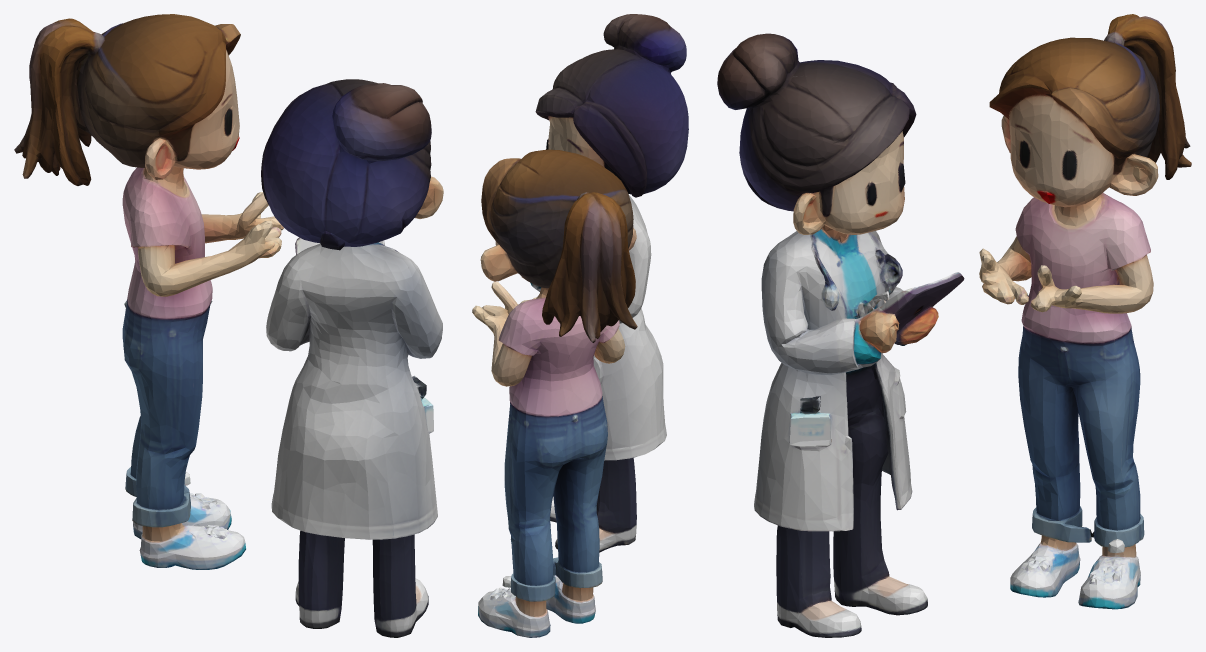
Rendered from docs.glb.
The picture shows the model from 3 angles, left to right: view 1: azimuth 30°, elevation 25°; view 2: azimuth 150°, elevation 25°; view 3: azimuth 270°, elevation 25°; orthographic projection. The views are drawn at different scales.
Parts seen in each view (by area): view 1: world; view 2: world; view 3: world.
Boxes of the visible parts, left/top/right/bottom form: world: left=14, top=14, right=443, bottom=637; world: left=472, top=14, right=688, bottom=637; world: left=717, top=14, right=1191, bottom=637.
Size of the model in its own units: 0.4855 by 1 by 0.7615.
1 material, 1 textured.
